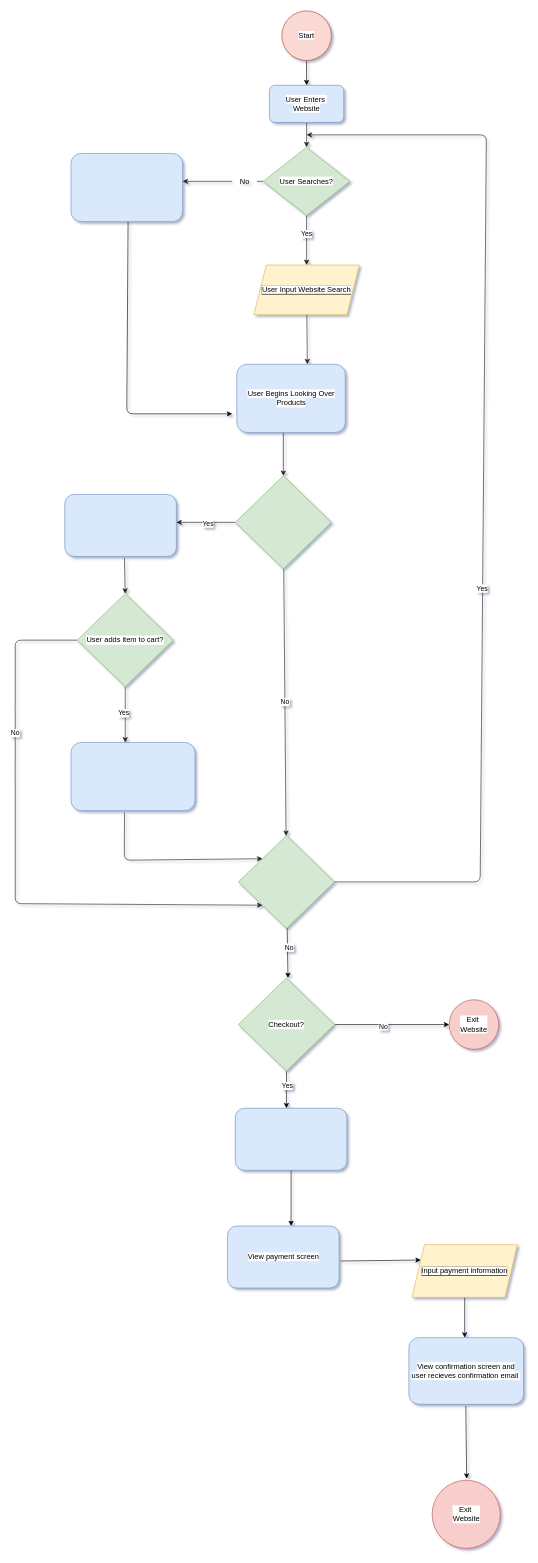
This 538x1563 diagram has some shape labels left out. The shapes that lost their labels are listed below. From the top down, each one's box as (x1, y1, x2, y2) in pixels, then its label:
(70, 153, 183, 222): User Explores Products On Home Page
(64, 494, 176, 556): Product's webpage opens
(235, 475, 331, 569): View Specific Product?
(70, 742, 195, 811): User recieves cart confirmation
(238, 835, 334, 928): Continue Shopping?
(235, 1108, 347, 1170): View cart screen
